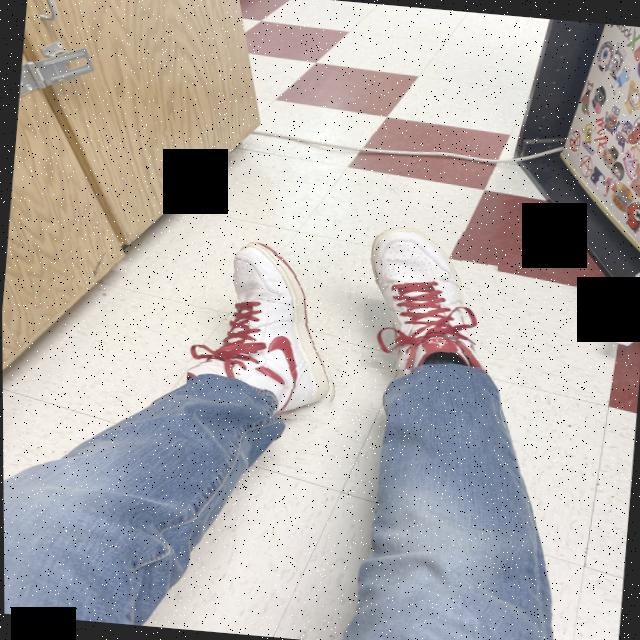shoe: (182, 237, 350, 426), (357, 223, 502, 379)
